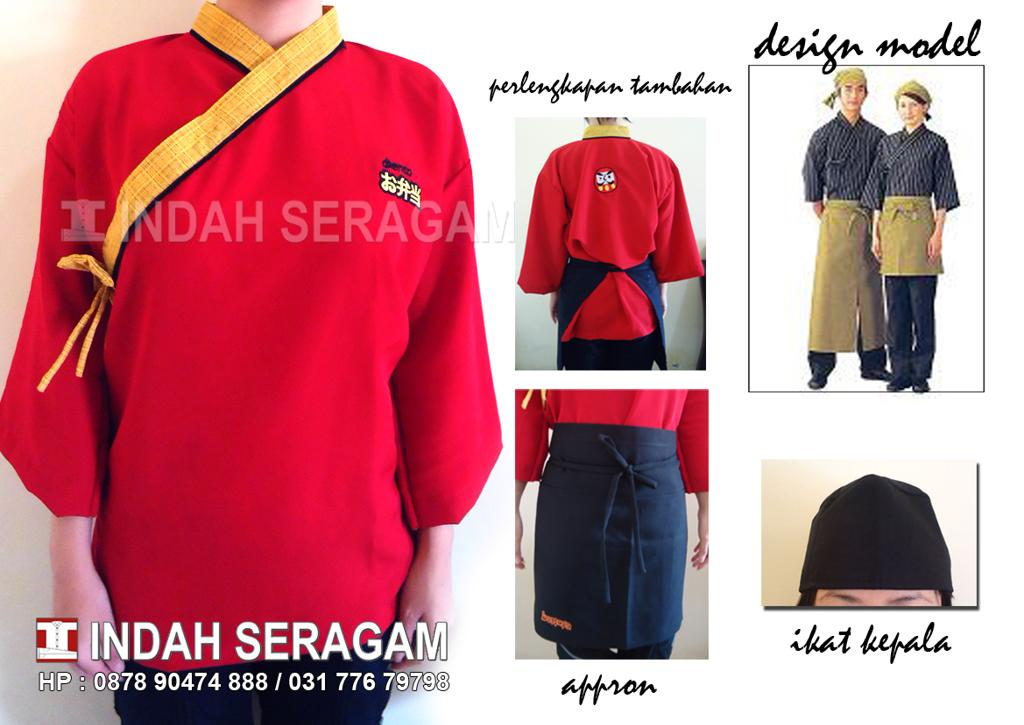face: (812, 556, 942, 695), (898, 97, 922, 123), (841, 83, 864, 110)
